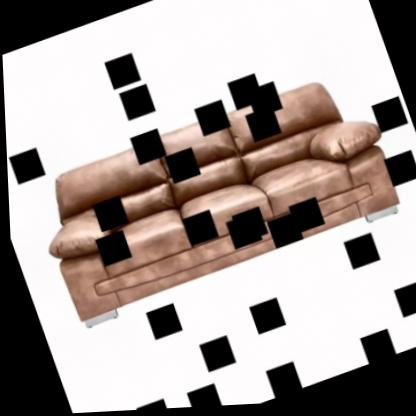Sofa: (29, 68, 399, 318)
